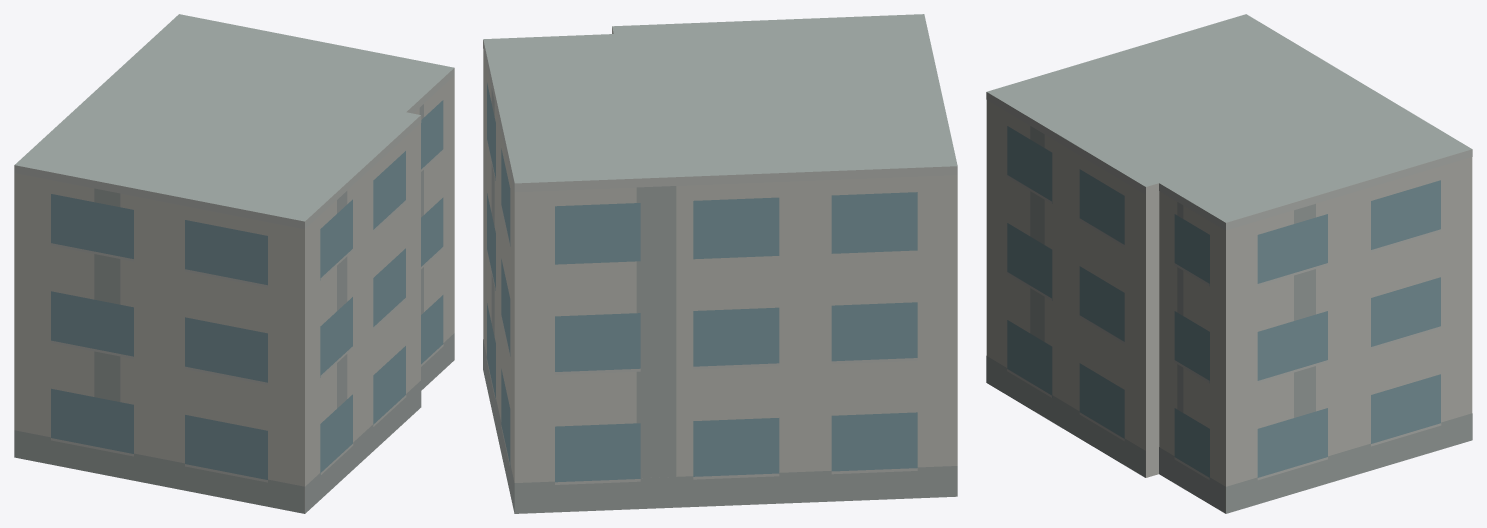
The model's file is residential-e9fa49aa-74c5-4573-8b52-87c59a11edb2.glb.
3 renders of one model, left to right at view 1: azimuth 30°, elevation 25°; view 2: azimuth 150°, elevation 25°; view 3: azimuth 270°, elevation 25°, orthographic. The views are drawn at different scales.
Parts seen in each view (by area): view 1: residential-e9fa49aa-74c5-4573-8b52-87c59a11edb2.tmp; view 2: residential-e9fa49aa-74c5-4573-8b52-87c59a11edb2.tmp; view 3: residential-e9fa49aa-74c5-4573-8b52-87c59a11edb2.tmp.
Boxes of the visible parts, box(x1,y1,x2,y2) form: residential-e9fa49aa-74c5-4573-8b52-87c59a11edb2.tmp: box(14, 14, 454, 513); residential-e9fa49aa-74c5-4573-8b52-87c59a11edb2.tmp: box(483, 14, 957, 513); residential-e9fa49aa-74c5-4573-8b52-87c59a11edb2.tmp: box(986, 14, 1472, 513).
Size of the model in its own units: 14.09 by 9.15 by 13.86.
